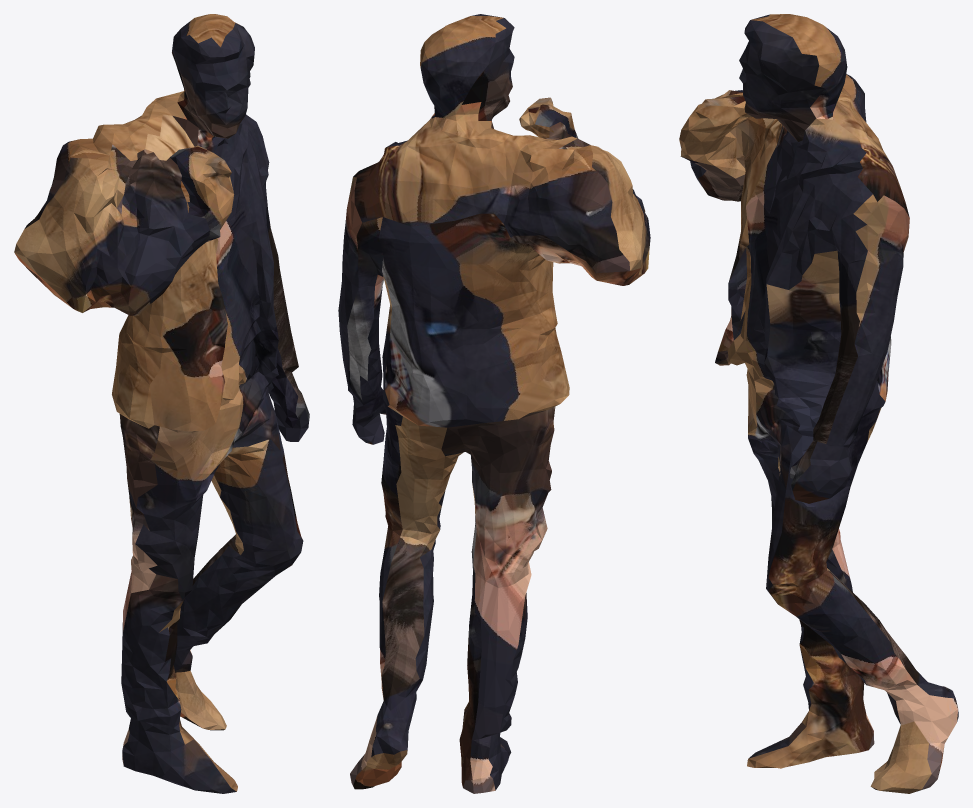
3 renders of one model, left to right at view 1: azimuth 30°, elevation 25°; view 2: azimuth 150°, elevation 25°; view 3: azimuth 270°, elevation 25°, orthographic. The views are drawn at different scales.
Parts seen in each view (by area): view 1: mn_4; view 2: mn_4; view 3: mn_4.
Part boxes in pixels (box(x1,y1,x2,y2)): mn_4: box(14, 14, 309, 793); mn_4: box(338, 14, 650, 793); mn_4: box(679, 14, 958, 793).
Size of the model in its own units: 0.653 by 1.66 by 0.5623.
1 material, 1 textured.
